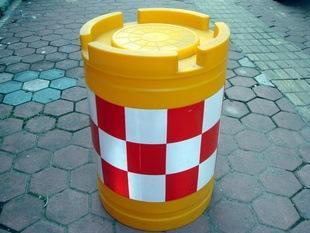sign: (73, 4, 224, 232)
